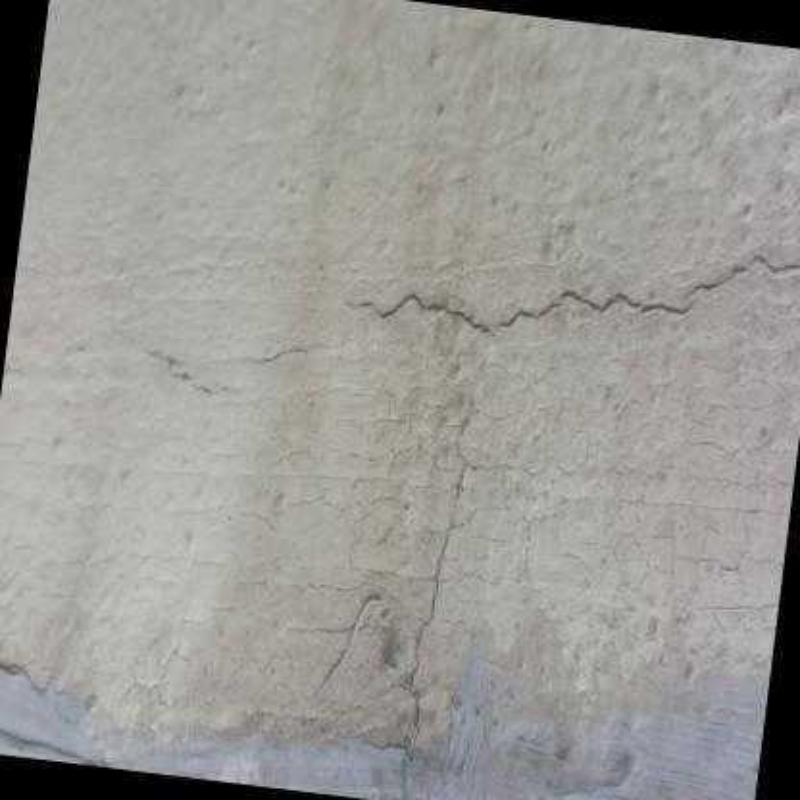pothole: (341, 247, 798, 337), (363, 504, 477, 763), (296, 594, 381, 694), (452, 415, 469, 506), (263, 350, 310, 362)
